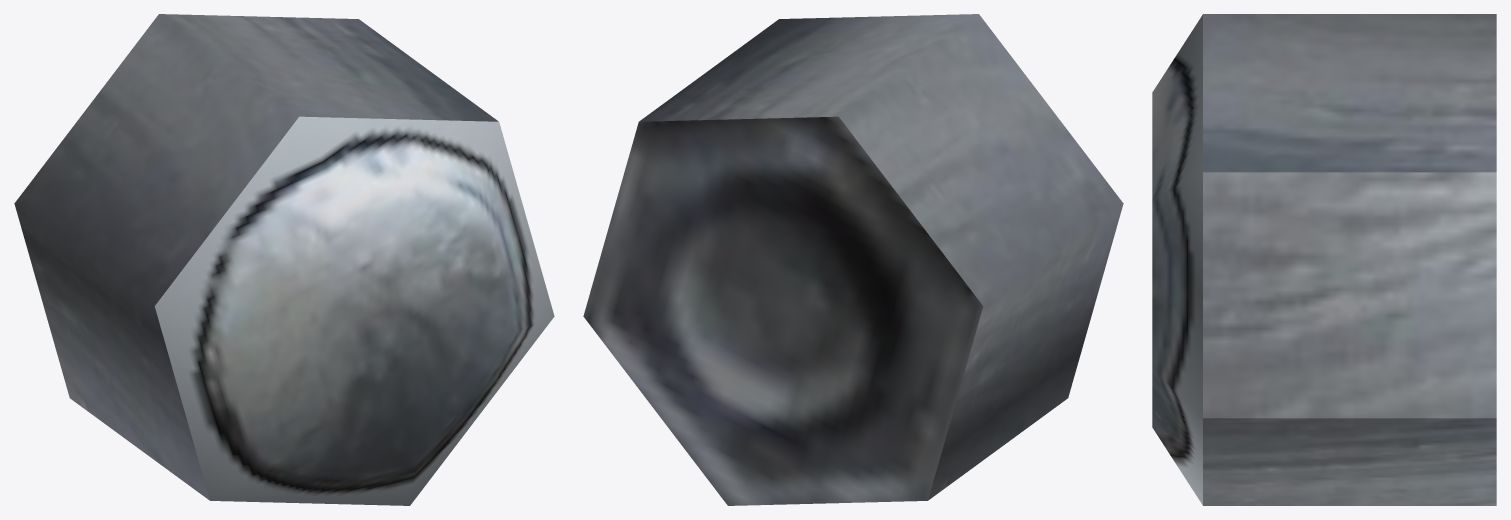
The model's file is Bolt.fbx.
The picture shows the model from 3 angles, left to right: view 1: azimuth 30°, elevation 25°; view 2: azimuth 150°, elevation 25°; view 3: azimuth 270°, elevation 25°; orthographic projection. The views are drawn at different scales.
Parts seen in each view (by area): view 1: Bolt; view 2: Bolt; view 3: Bolt.
Boxes of the visible parts, left/top/right/bottom form: Bolt: left=14, top=14, right=554, bottom=505; Bolt: left=583, top=14, right=1123, bottom=505; Bolt: left=1152, top=14, right=1496, bottom=505.
Size of the model in its own units: 0.0686 by 0.0682 by 0.0488.
